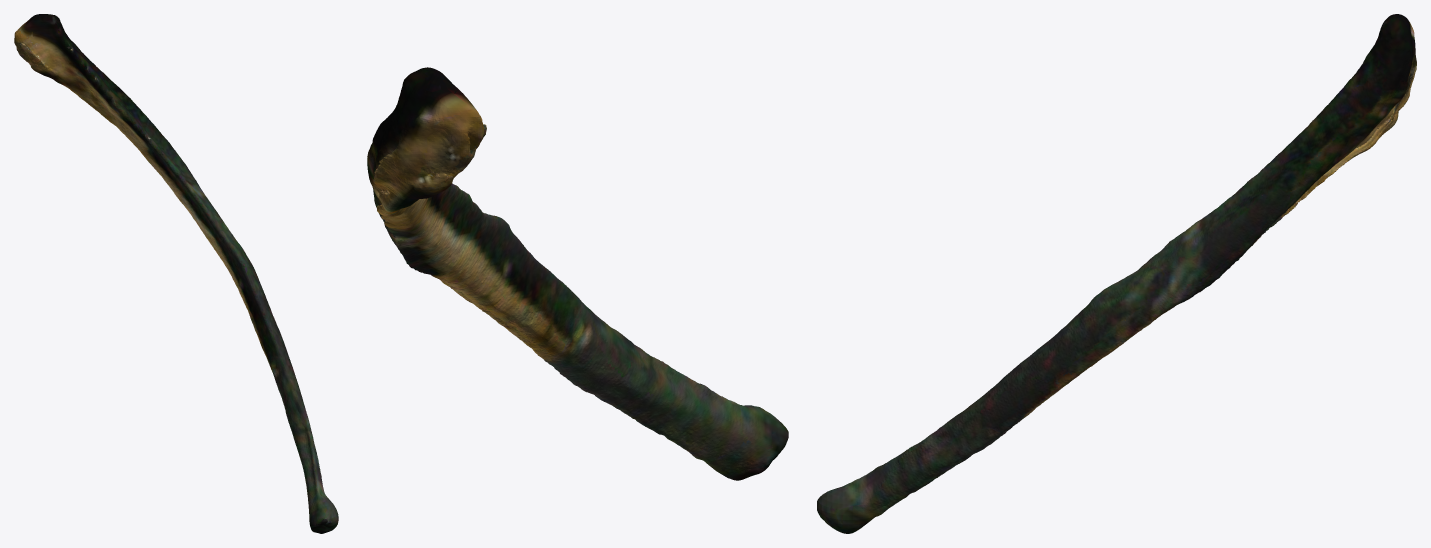
File: 14_ribs.glb
3 views of the same model, side by side, from view 1: azimuth 30°, elevation 25°; view 2: azimuth 150°, elevation 25°; view 3: azimuth 270°, elevation 25° (orthographic). The views are drawn at different scales.
Visible parts, largest first — view 1: Node; view 2: Node; view 3: Node.
Part boxes in pixels (box(x1,y1,x2,y2)): Node: box(14, 14, 338, 533); Node: box(367, 67, 788, 480); Node: box(817, 14, 1416, 533).
Size of the model in its own units: 13.65 by 38.64 by 43.95.
Materials: 1 (1 with a texture image).
